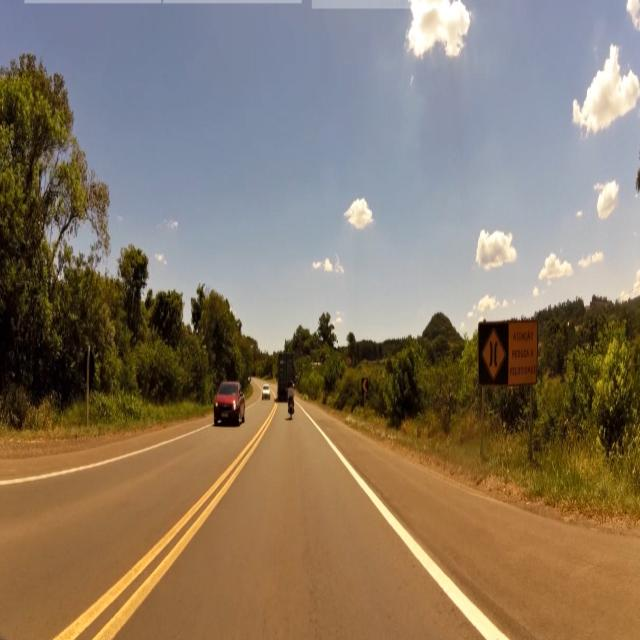A-22: (482, 325, 506, 388)
